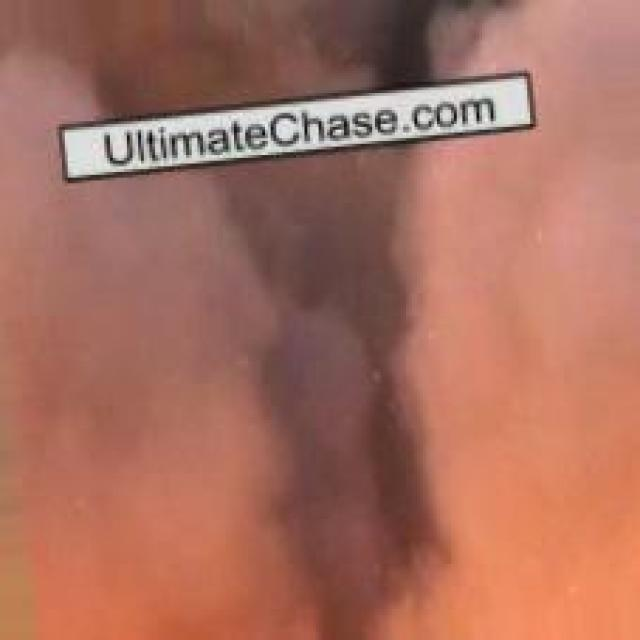smoke: (19, 3, 604, 610)
